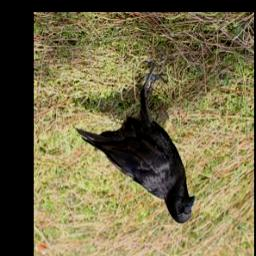Crow: (72, 59, 193, 225)
